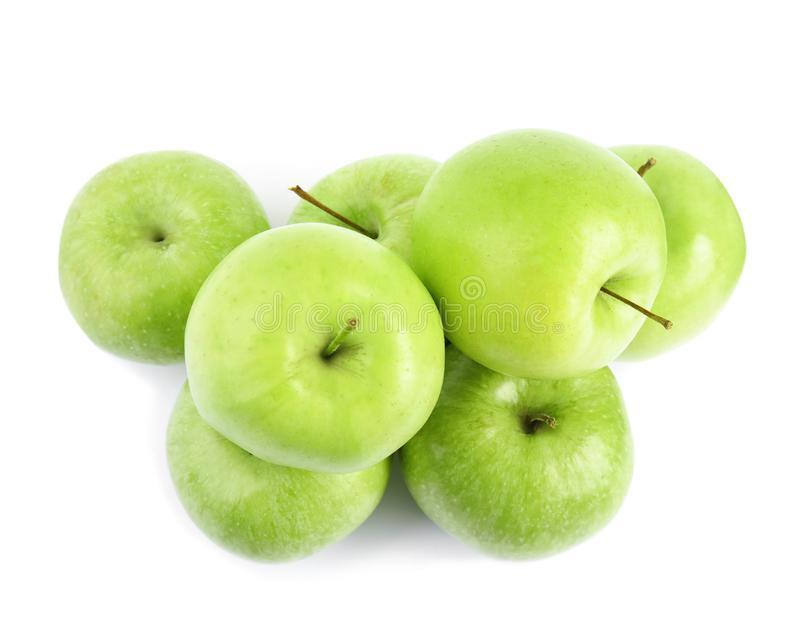apple: (182, 223, 441, 469), (434, 133, 667, 374), (59, 149, 268, 371), (399, 362, 631, 560)
